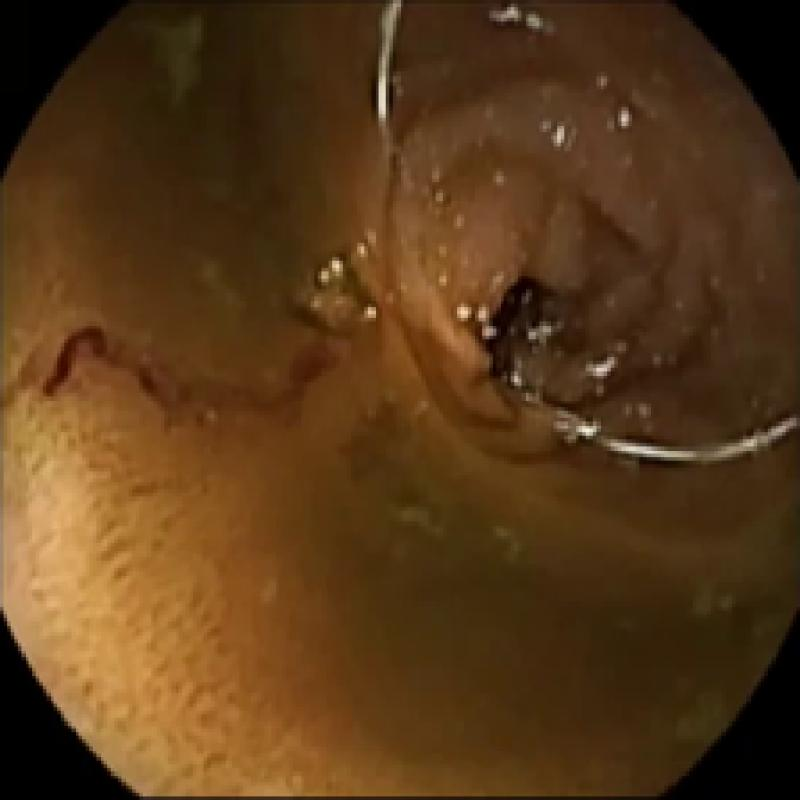bleeding: (39, 321, 338, 429), (482, 279, 604, 414)
